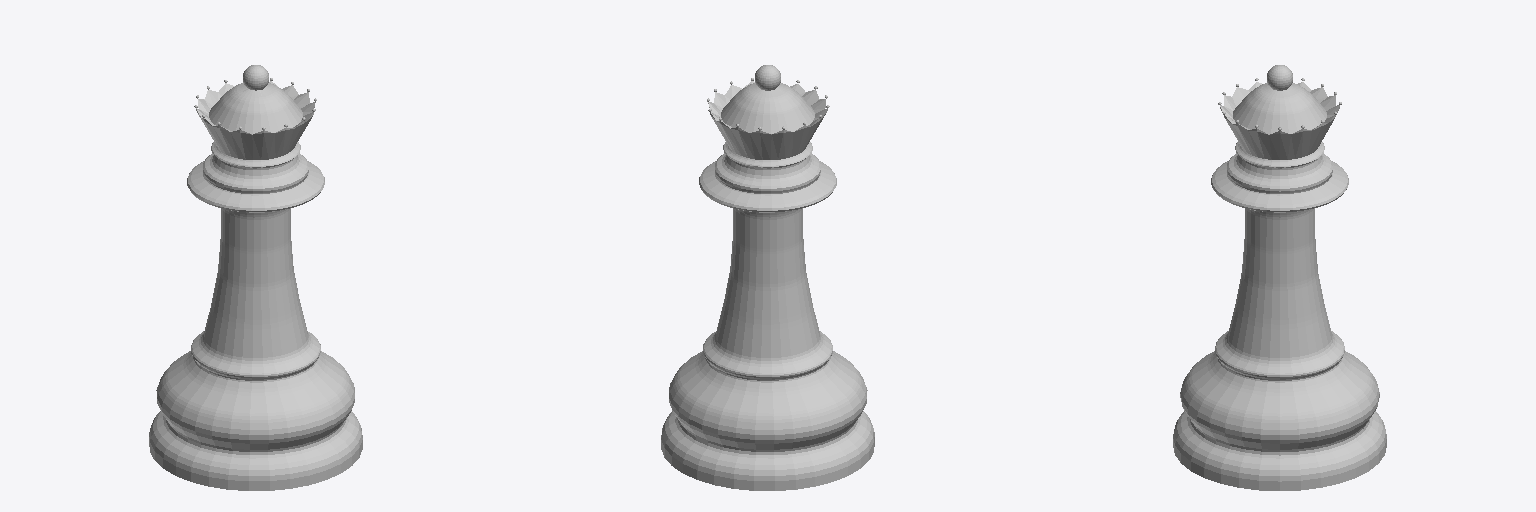
Rendered from black_queen.obj.
3 views of the same model, side by side, from view 1: azimuth 30°, elevation 25°; view 2: azimuth 150°, elevation 25°; view 3: azimuth 270°, elevation 25° (orthographic).
Parts seen in each view (by area): view 1: Dark_Queen; view 2: Dark_Queen; view 3: Dark_Queen.
Part boxes in pixels (left/top/right/bottom): Dark_Queen: left=149, top=65, right=362, bottom=490; Dark_Queen: left=661, top=65, right=874, bottom=490; Dark_Queen: left=1173, top=65, right=1386, bottom=490.
Bounding box in the file's own units: 1.36 × 2.66 × 1.36.